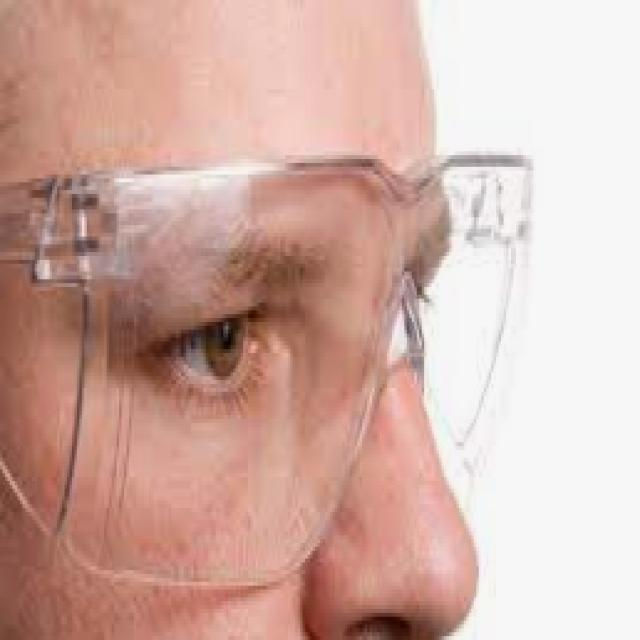glasses: (49, 152, 528, 557)
